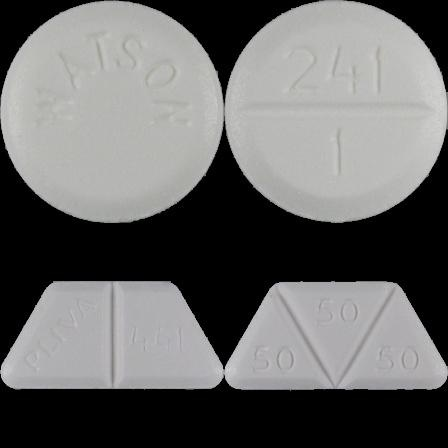16590-584: (0, 0, 224, 224)
